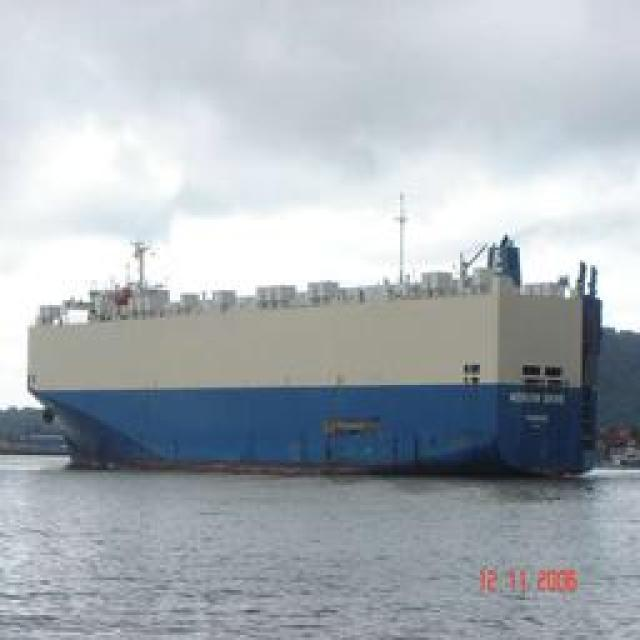ship2: (25, 213, 604, 482)
